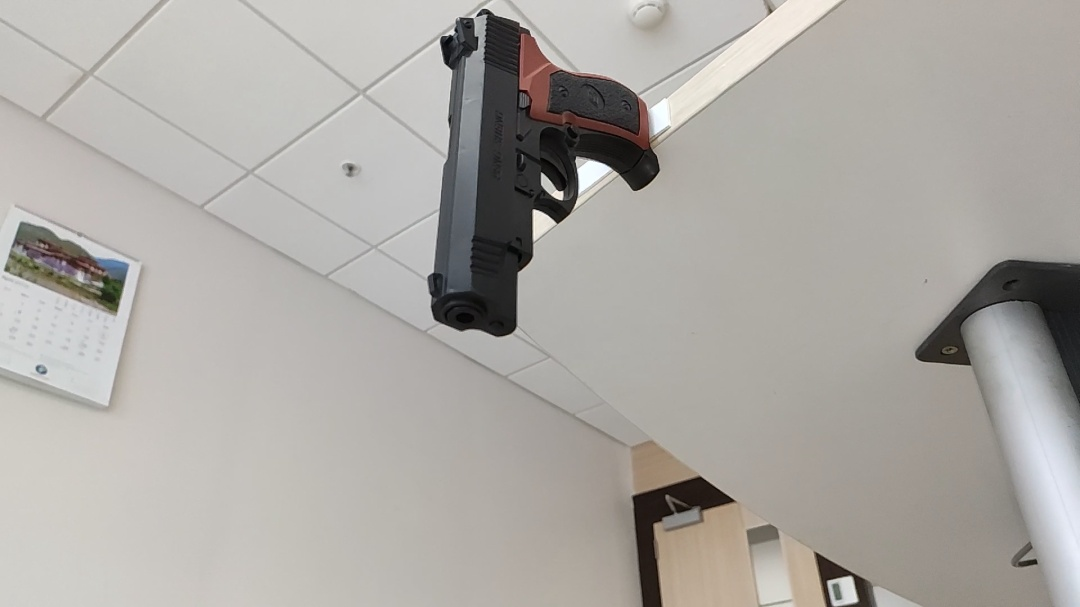gun: (424, 6, 664, 347)
